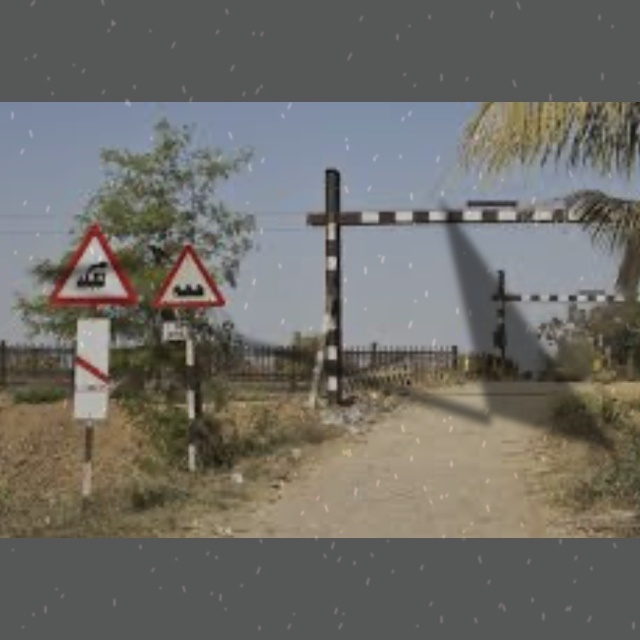Unguarded_Level_Crossing: (53, 220, 135, 315)
